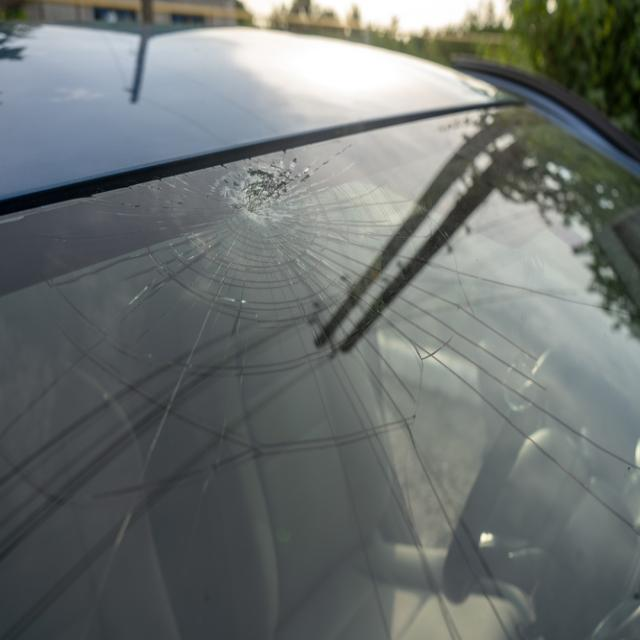Fissure: (0, 249, 340, 640), (343, 225, 640, 640), (88, 125, 444, 316)
